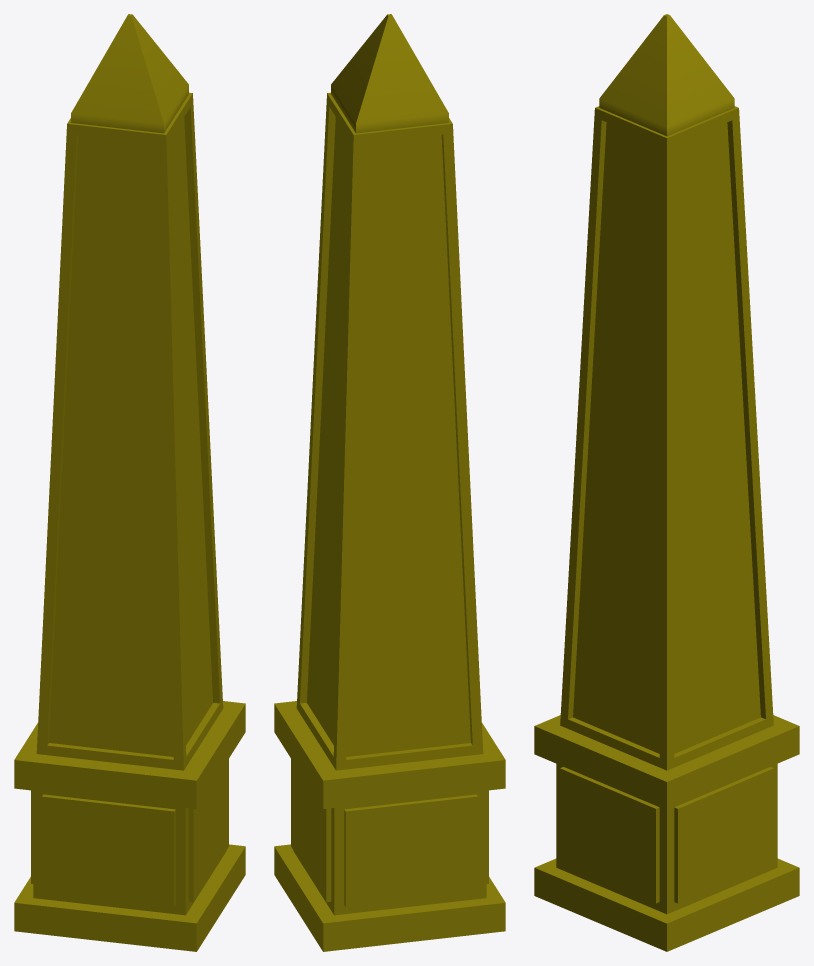
File: stella.fbx
3 views of the same model, side by side, from view 1: azimuth 30°, elevation 25°; view 2: azimuth 150°, elevation 25°; view 3: azimuth 270°, elevation 25° (orthographic).
Parts seen in each view (by area): view 1: obelisk_mid; view 2: obelisk_mid; view 3: obelisk_mid.
Part boxes in pixels (<box>): obelisk_mid: <box>14,14,245,951</box>; obelisk_mid: <box>274,14,505,951</box>; obelisk_mid: <box>534,14,799,951</box>.
Size of the model in its own units: 257 by 944 by 257.
